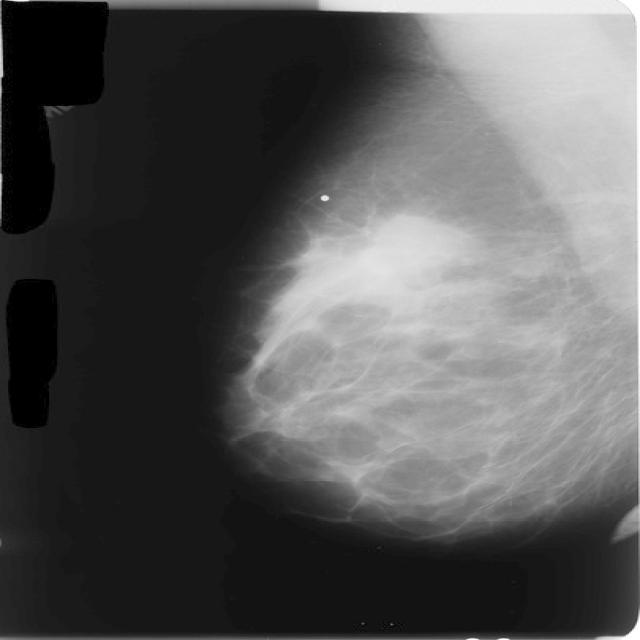tumour: (313, 219, 471, 290)
